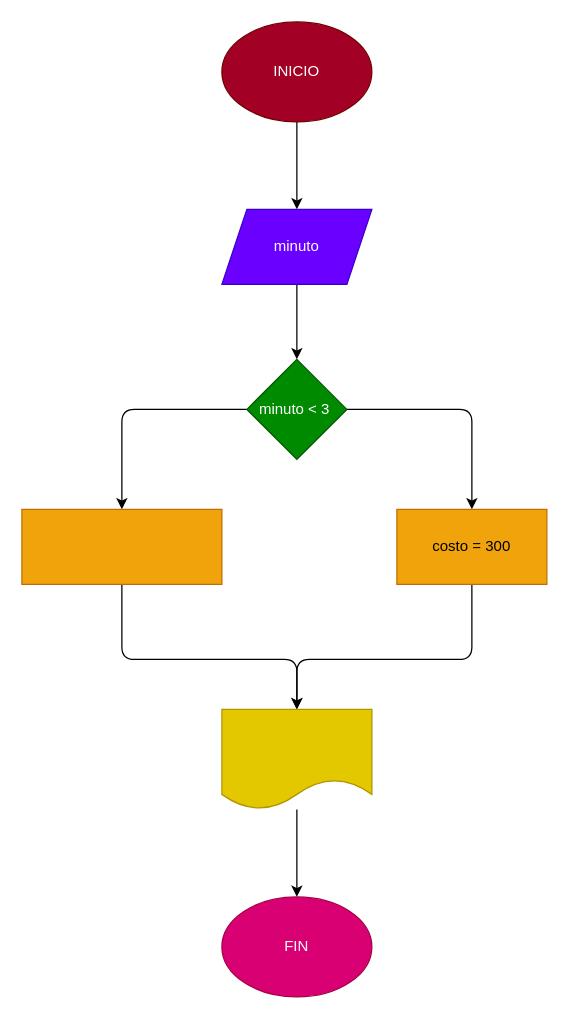
Image size: 569x1019. Some labels were removed from this diagram. The centre of each missing label's shape, as x and y in pixels:
costo: point 296,758
costo = ( minuto-3)*50+30: point 121,546
